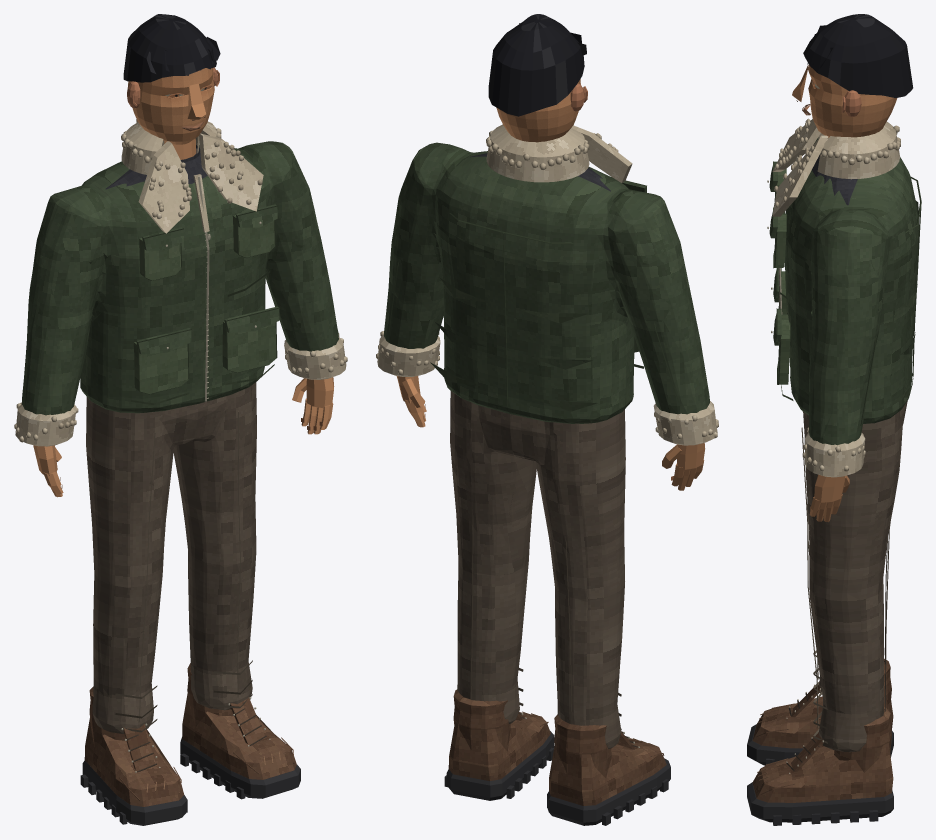
The model's file is field-guy.glb.
3 renders of one model, left to right at view 1: azimuth 30°, elevation 25°; view 2: azimuth 150°, elevation 25°; view 3: azimuth 270°, elevation 25°, orthographic. The views are drawn at different scales.
Parts seen in each view (by area): view 1: FG | Field jacket, FG | Taupe trousers, FG | Work boot L, FG | Work boot R, FG | Shearling collar, FG | Head and face, FG | Hair, FG | Shearling cuff R, FG | Shearling cuff L, FG | Hand L, FG | Hand R, FG | Charcoal shirt; view 2: FG | Field jacket, FG | Taupe trousers, FG | Work boot R, FG | Work boot L, FG | Hair, FG | Shearling collar, FG | Head and face, FG | Shearling cuff R, FG | Shearling cuff L, FG | Hand R, FG | Hand L; view 3: FG | Field jacket, FG | Taupe trousers, FG | Work boot L, FG | Hair, FG | Shearling collar, FG | Head and face, FG | Work boot R, FG | Shearling cuff L, FG | Hand L, FG | Charcoal shirt.
Boxes of the visible parts, x1,y1,x2,y2 form: FG | Field jacket: (22, 141, 338, 415); FG | Taupe trousers: (86, 382, 256, 733); FG | Work boot L: (180, 663, 300, 799); FG | Work boot R: (80, 687, 187, 825); FG | Shearling collar: (121, 119, 263, 233); FG | Head and face: (127, 67, 219, 144); FG | Hair: (123, 14, 220, 82); FG | Shearling cuff R: (14, 402, 78, 446); FG | Shearling cuff L: (284, 333, 347, 379); FG | Hand L: (292, 377, 334, 434); FG | Hand R: (33, 445, 63, 497); FG | Charcoal shirt: (105, 145, 207, 189); FG | Field jacket: (384, 142, 709, 423); FG | Taupe trousers: (450, 391, 625, 748); FG | Work boot R: (547, 714, 670, 825); FG | Work boot L: (444, 689, 554, 800); FG | Hair: (488, 14, 586, 116); FG | Shearling collar: (486, 124, 632, 182); FG | Head and face: (496, 79, 587, 142); FG | Shearling cuff R: (653, 401, 718, 445); FG | Shearling cuff L: (376, 331, 440, 376); FG | Hand R: (662, 443, 705, 490); FG | Hand L: (396, 376, 426, 427); FG | Field jacket: (767, 137, 921, 445); FG | Taupe trousers: (801, 401, 907, 752); FG | Work boot L: (747, 707, 893, 825); FG | Hair: (803, 14, 913, 97); FG | Shearling collar: (772, 118, 900, 216); FG | Head and face: (792, 63, 897, 137); FG | Work boot R: (747, 658, 893, 765); FG | Shearling cuff L: (802, 427, 865, 477); FG | Hand L: (809, 474, 849, 522); FG | Charcoal shirt: (812, 154, 857, 205).
Size of the model in its own units: 0.8041 by 1.79 by 0.3702.
Materials: 26 (8 with a texture image).
